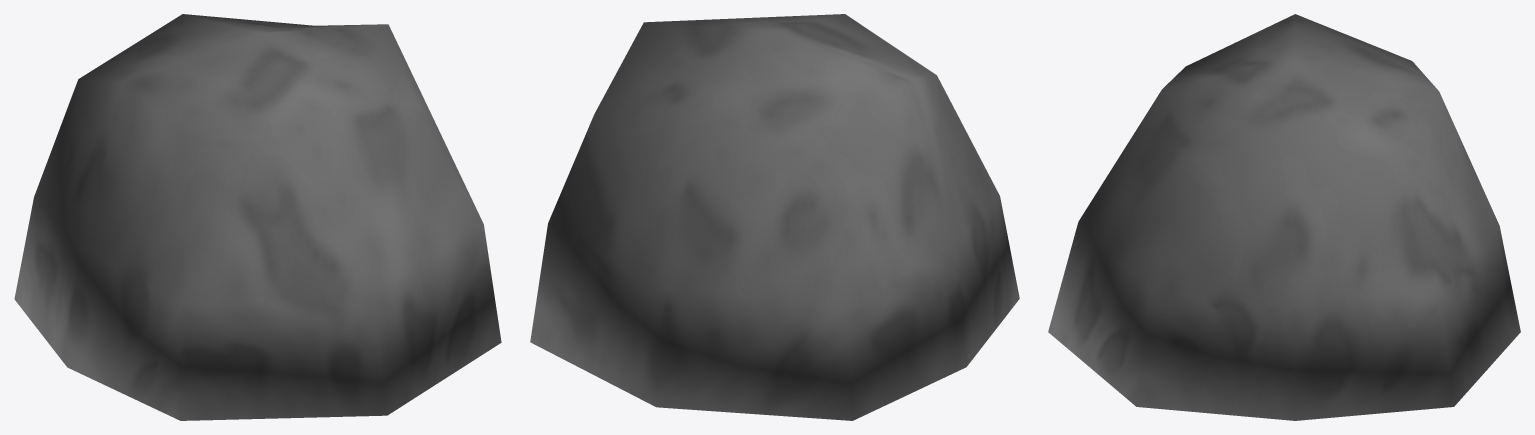
File: Boulder.fbx
3 renders of one model, left to right at view 1: azimuth 30°, elevation 25°; view 2: azimuth 150°, elevation 25°; view 3: azimuth 270°, elevation 25°, orthographic. The views are drawn at different scales.
Visible parts, largest first — view 1: Boulder; view 2: Boulder; view 3: Boulder.
Boxes of the visible parts, left/top/right/bottom form: Boulder: left=14, top=14, right=501, bottom=420; Boulder: left=530, top=14, right=1019, bottom=420; Boulder: left=1048, top=14, right=1520, bottom=420.
Size of the model in its own units: 263 by 190 by 296.
Materials: 1 (1 with a texture image).
